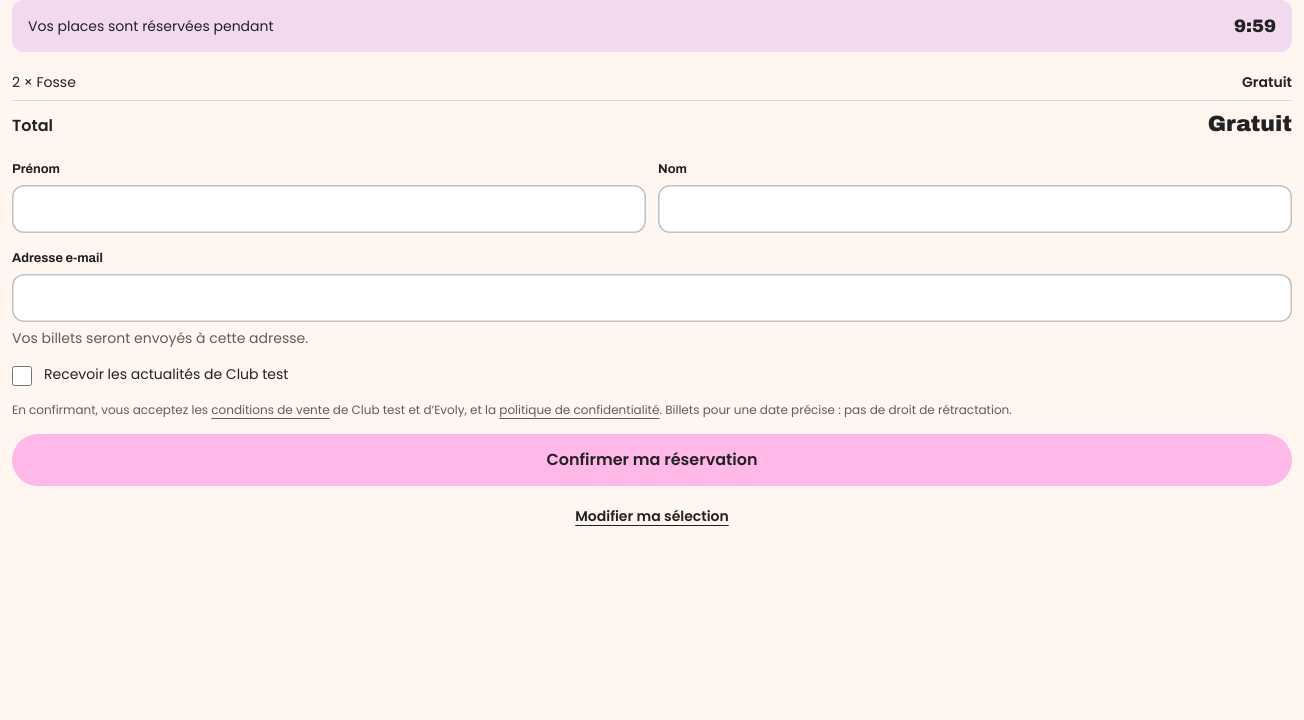
Test: panier (paiement et commande gratuite) › formulaire vide ou adresse invalide : erreurs affichées, rien n'est envoyé
Type "lea@exemple" into the field labelled "Adresse e-mail".
click(652, 298); type("lea@exemple")  # box 12,274 -> 1292,322
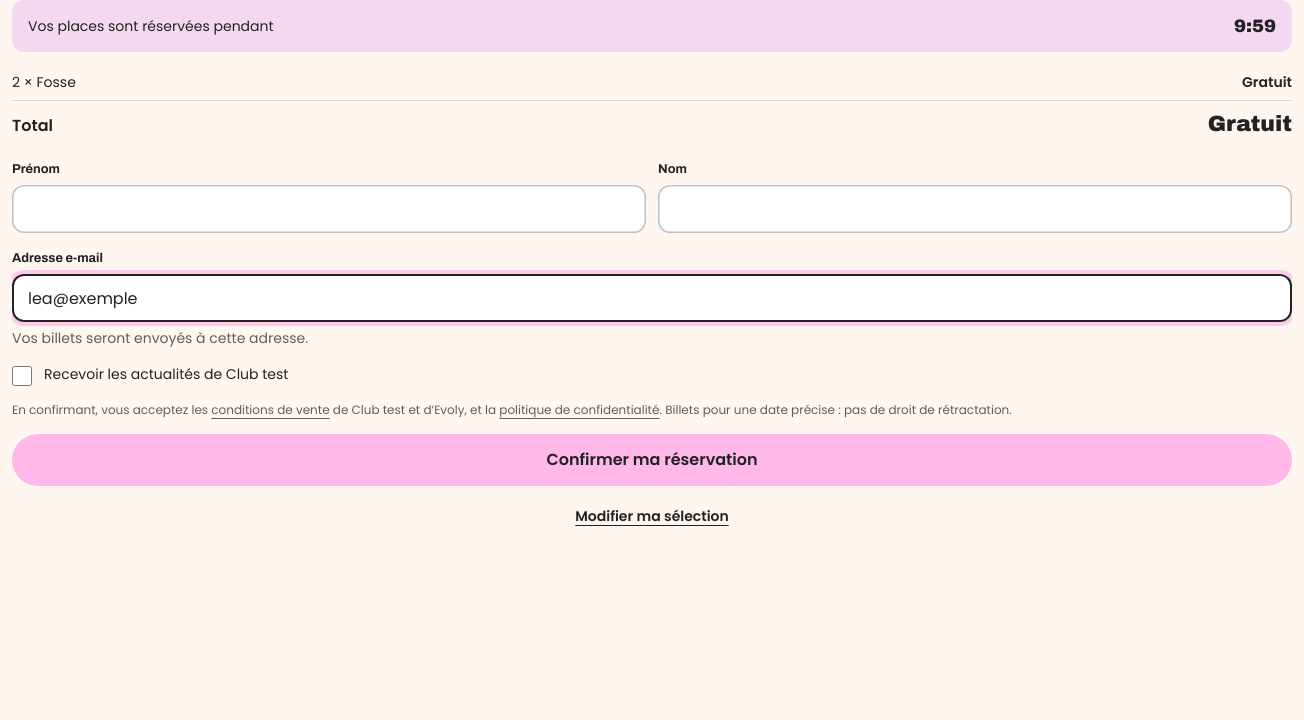
Click the button "Confirmer ma réservation".
click(652, 460)  # box 12,434 -> 1292,486
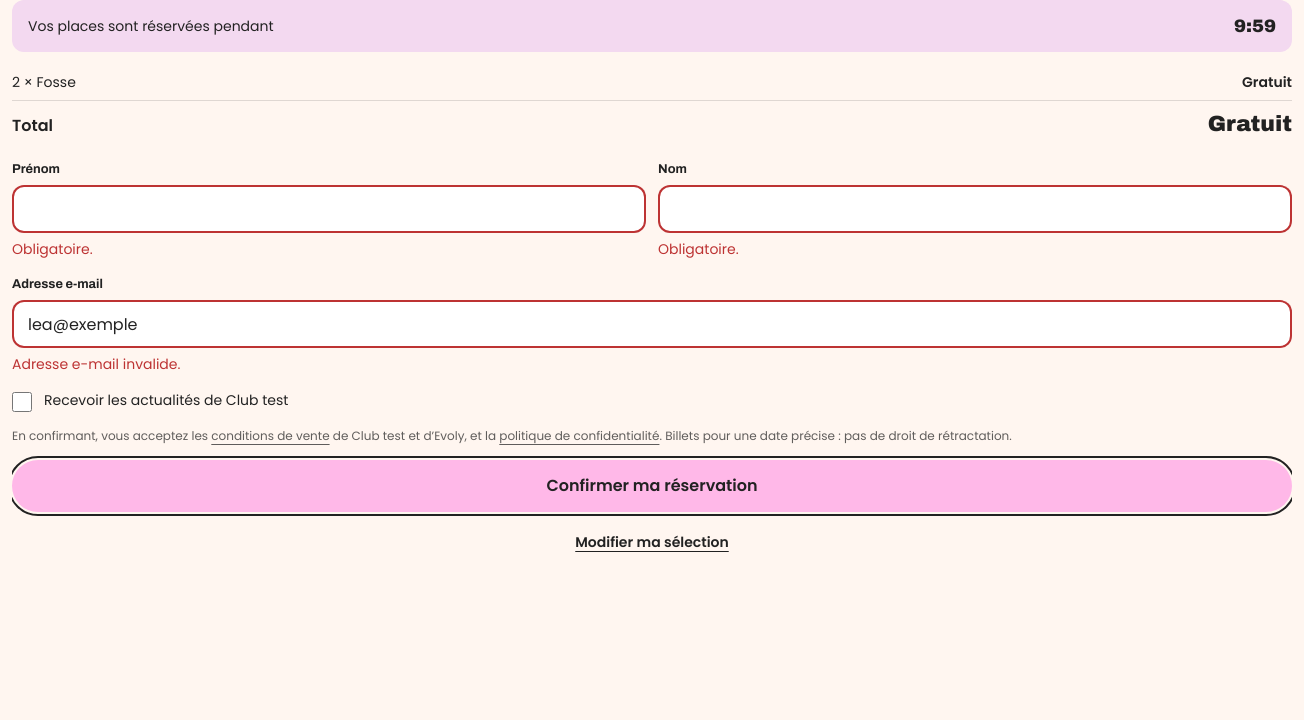
expect the text "Adresse e-mail invalide." is shown: met, box 12,354 -> 180,374
